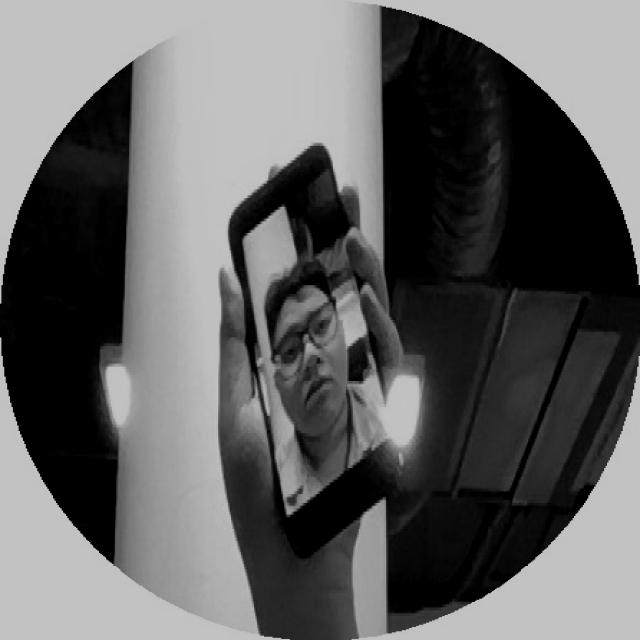fake: (218, 137, 438, 561), (256, 260, 361, 438)
